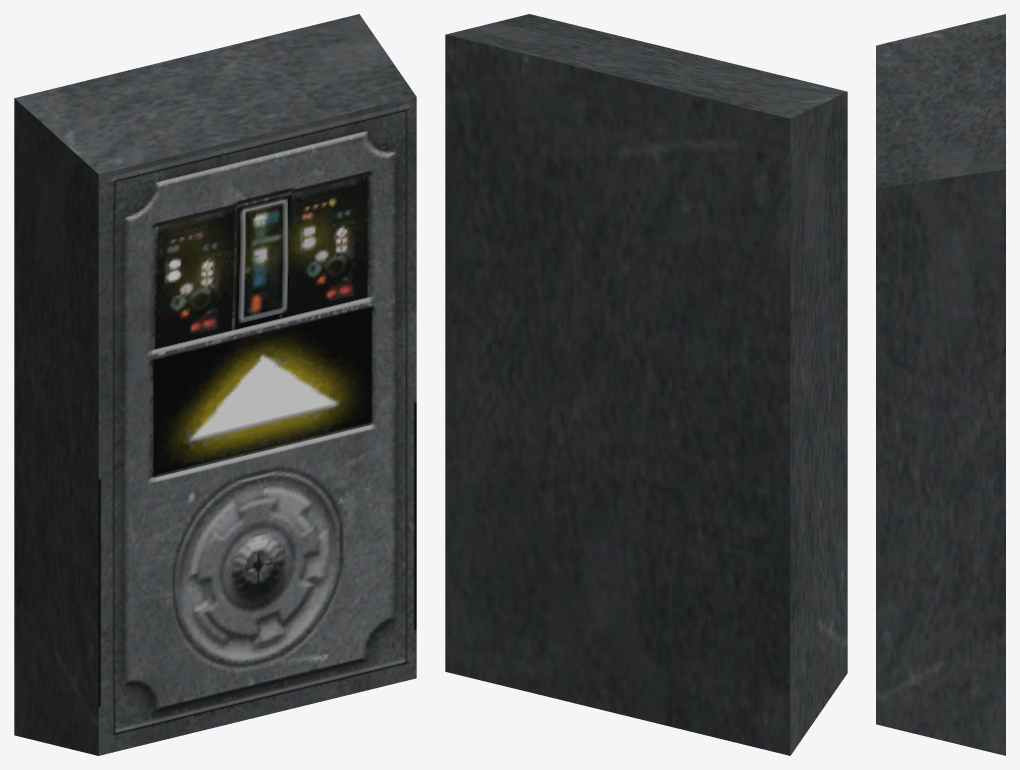
File: thm_all_elevator_panel_up_s02_l0.fbx
3 views of the same model, side by side, from view 1: azimuth 30°, elevation 25°; view 2: azimuth 150°, elevation 25°; view 3: azimuth 270°, elevation 25° (orthographic). The views are drawn at different scales.
Visible parts, largest first — view 1: mesh_node; view 2: mesh_node; view 3: mesh_node.
Part boxes in pixels (bbox=[...]): mesh_node: bbox=[14, 14, 416, 755]; mesh_node: bbox=[445, 14, 847, 755]; mesh_node: bbox=[876, 14, 1005, 755].
Size of the model in its own units: 0.2045 by 0.3609 by 0.0724.
